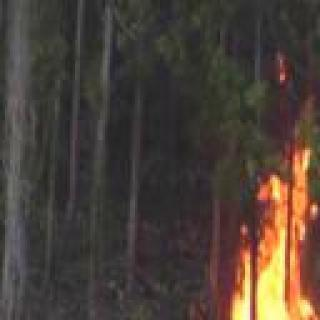fire: (174, 171, 320, 320)
